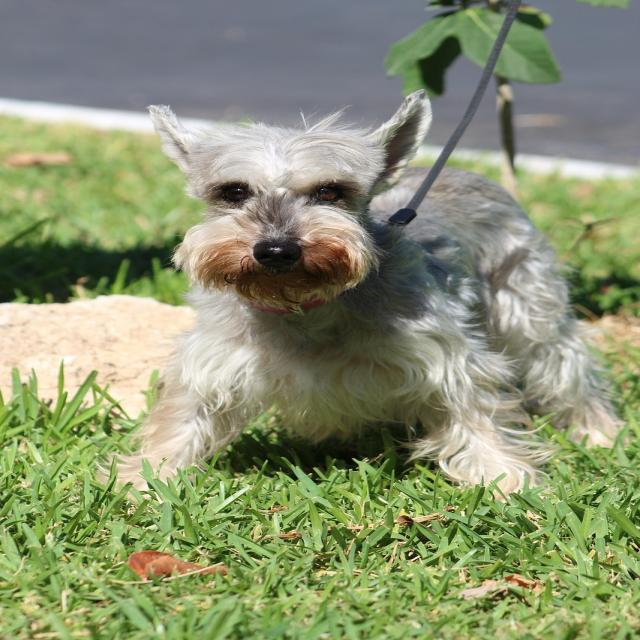dog: (133, 90, 622, 496)
